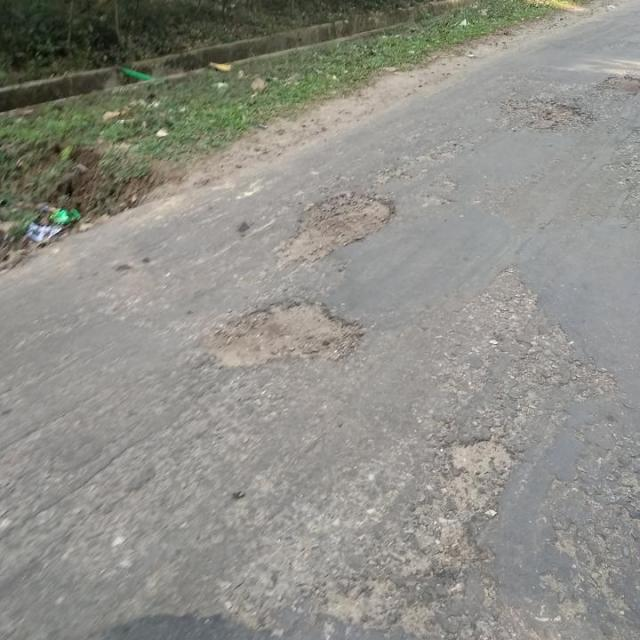pothole: (208, 294, 366, 374), (281, 190, 402, 266), (447, 432, 522, 484), (510, 95, 592, 134), (595, 70, 640, 97)
